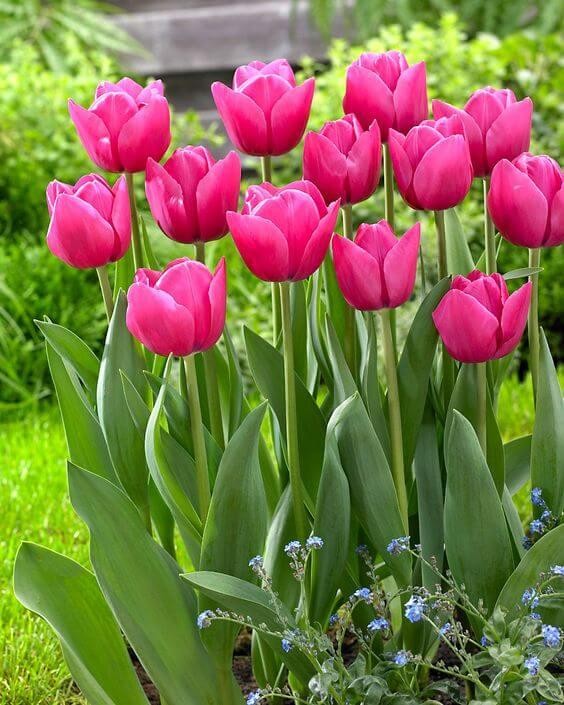tulip: (44, 48, 563, 362)
